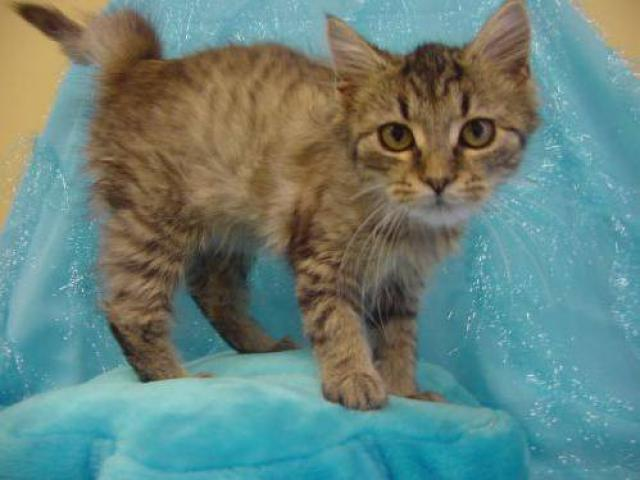cat: (58, 9, 541, 414)
